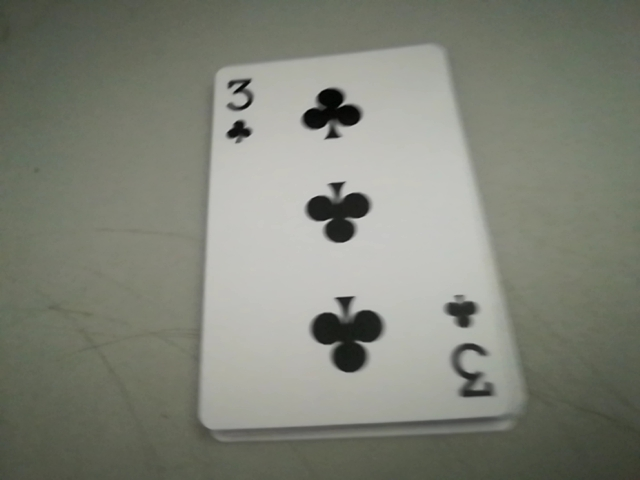mh 3: (441, 289, 497, 402), (212, 72, 263, 149)
